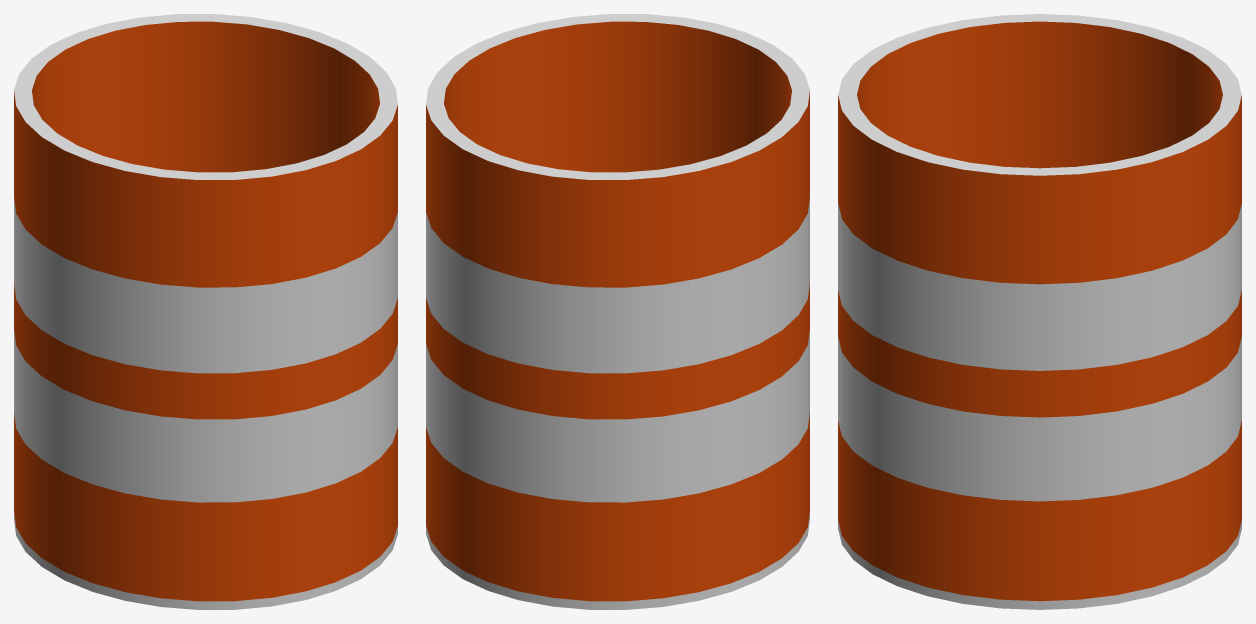
The model's file is Drum (wide).fbx.
3 views of the same model, side by side, from view 1: azimuth 30°, elevation 25°; view 2: azimuth 150°, elevation 25°; view 3: azimuth 270°, elevation 25° (orthographic).
Visible parts, largest first — view 1: Cylinder; view 2: Cylinder; view 3: Cylinder.
Boxes of the visible parts, bbox=[...] form: Cylinder: bbox=[14, 14, 397, 609]; Cylinder: bbox=[426, 14, 809, 609]; Cylinder: bbox=[838, 14, 1241, 609].
Size of the model in its own units: 235 by 294 by 248.
